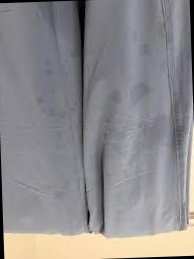oil: (34, 97, 80, 119), (127, 79, 157, 109), (36, 55, 56, 82), (135, 42, 157, 63), (42, 82, 63, 99)
